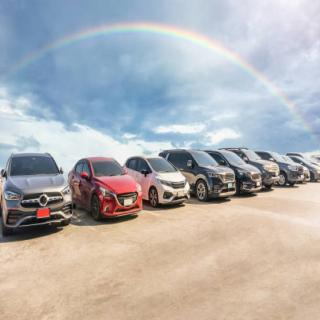Normal_vehicle: (2, 147, 74, 240), (155, 140, 235, 211), (69, 154, 145, 226), (123, 149, 192, 217), (221, 141, 279, 196), (206, 143, 261, 199), (257, 149, 299, 196), (280, 148, 307, 192), (289, 148, 320, 185)
